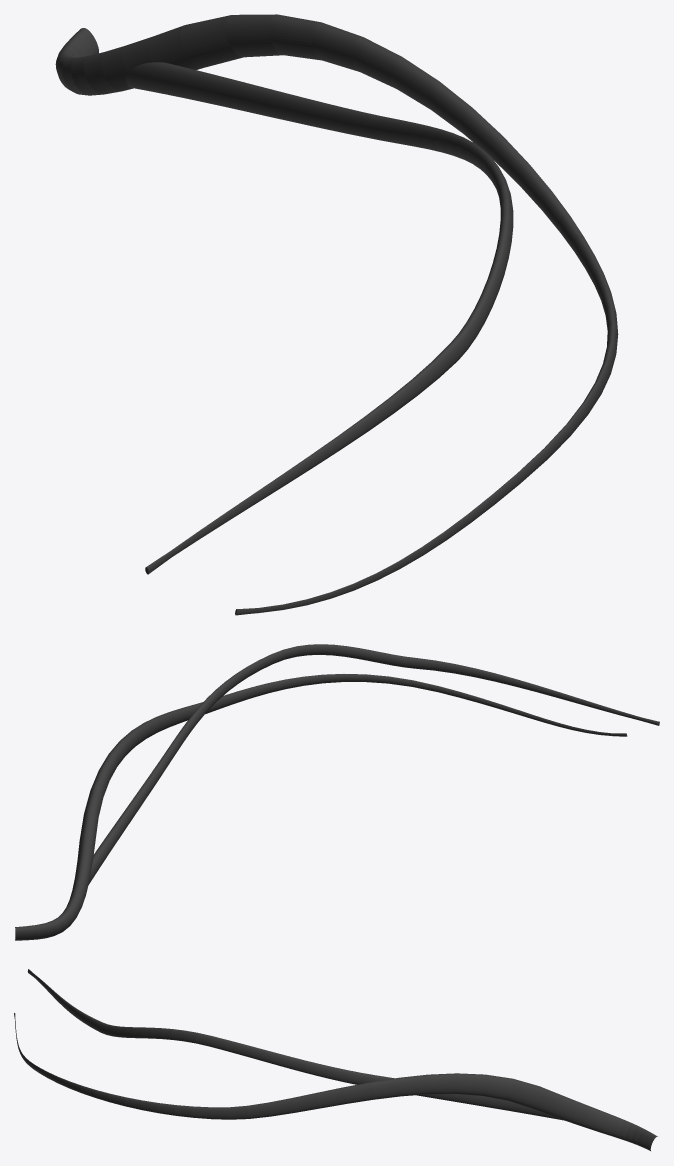
The model's file is N_3_oculomotor_dorsal_ramus.glb.
3 renders of one model, top to bottom at view 1: azimuth 30°, elevation 25°; view 2: azimuth 150°, elevation 25°; view 3: azimuth 270°, elevation 25°, orthographic. The views are drawn at different scales.
Visible parts, largest first — view 1: N_3_oculomotor_dorsal_ramus; view 2: N_3_oculomotor_dorsal_ramus; view 3: N_3_oculomotor_dorsal_ramus.
Boxes of the visible parts, bbox=[...] form: N_3_oculomotor_dorsal_ramus: bbox=[55, 14, 618, 615]; N_3_oculomotor_dorsal_ramus: bbox=[15, 644, 659, 940]; N_3_oculomotor_dorsal_ramus: bbox=[14, 969, 657, 1150].
Bounding box in the file's own units: 0.0124 × 0.00395 × 0.0213.
1 material, 1 textured.
